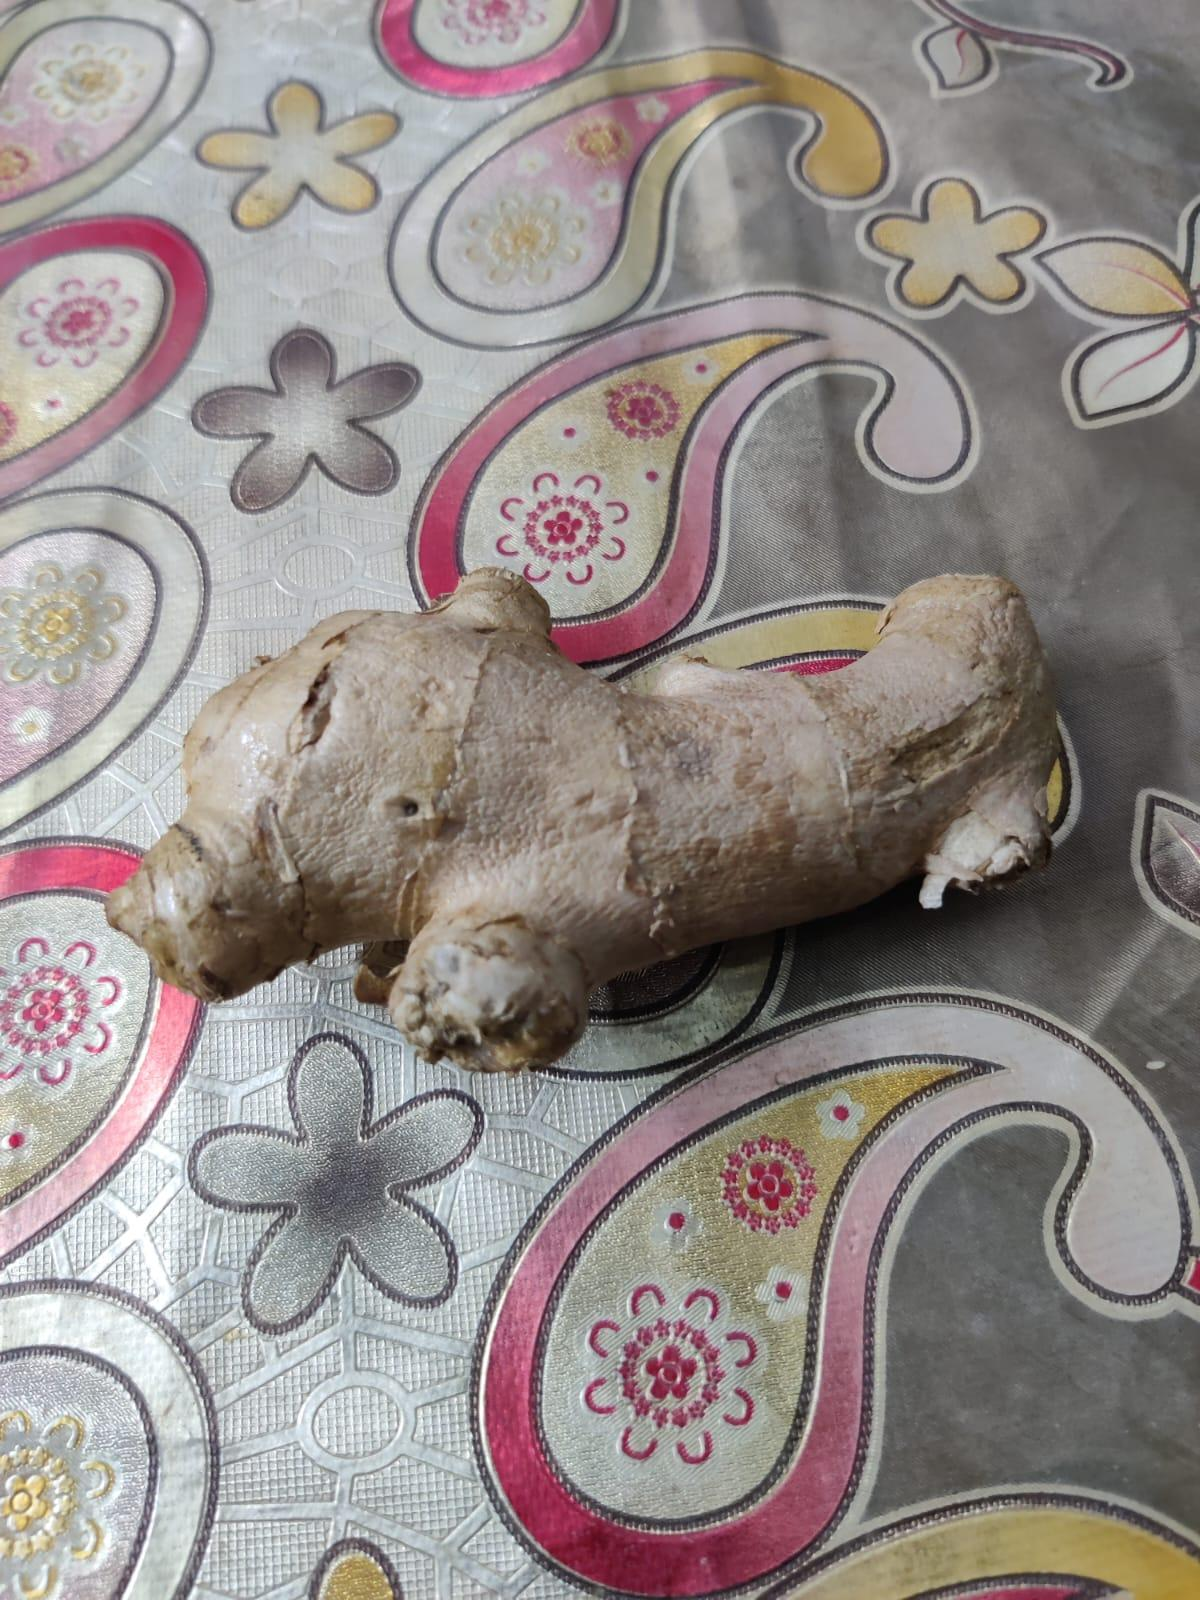non-mango: (95, 547, 1097, 1087)
